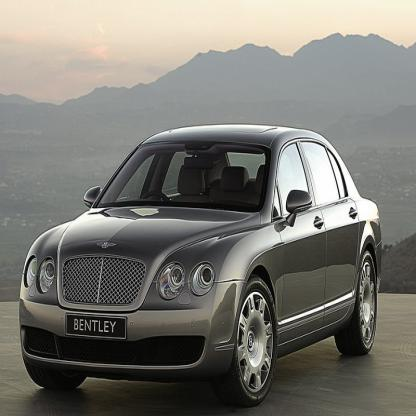Vehicle: (17, 123, 383, 412)
